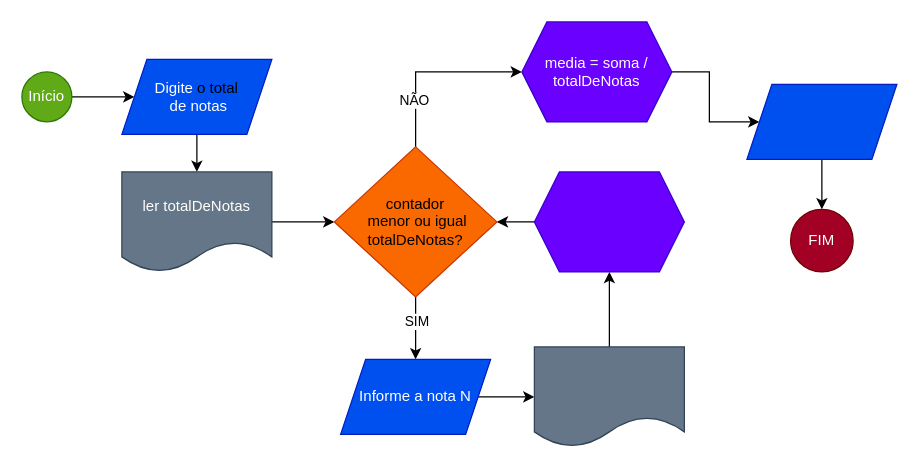
Image size: 919x469. Some labels were removed from this diagram. Here are the shapes that lost their labels. From the top down, the centre of each, then its label:
the point at 821,121: media
the point at 608,221: soma = soma + notaAtual; contador++
the point at 608,396: ler notaAtual
